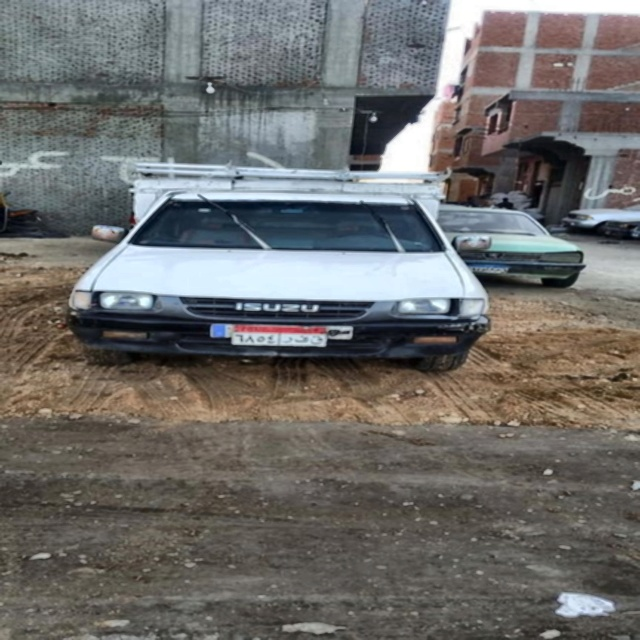License Plate: (230, 323, 330, 348)
